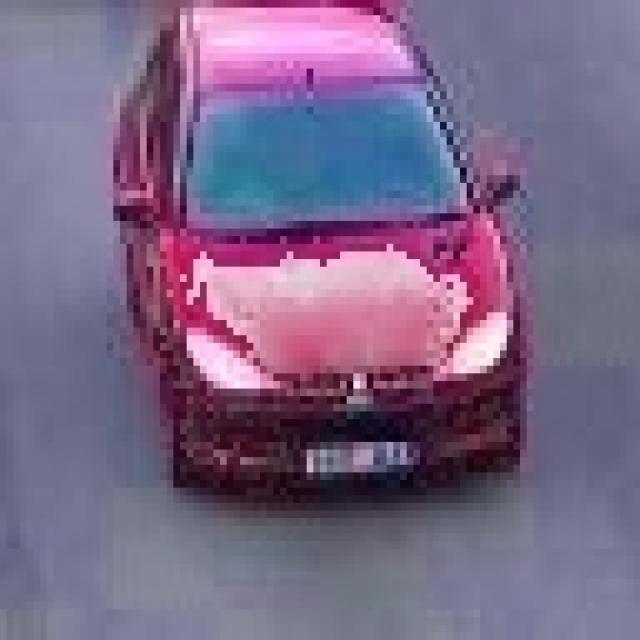maroon: (113, 0, 527, 488)
